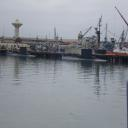submarine: (61, 50, 109, 64), (7, 48, 38, 58)
